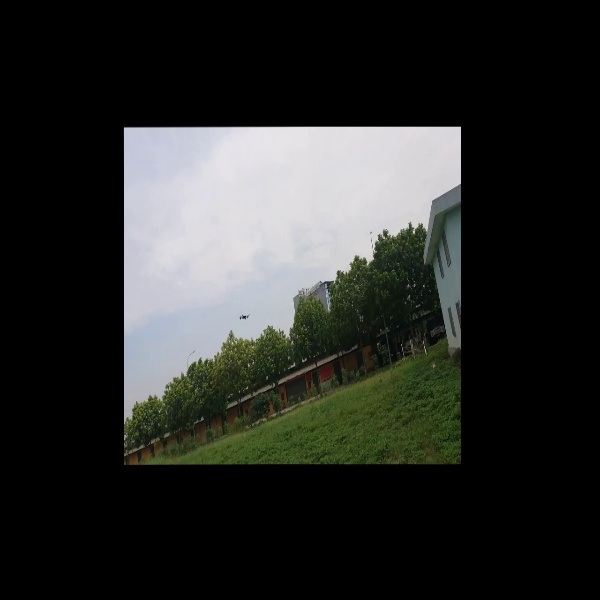drone: (228, 308, 256, 325)
